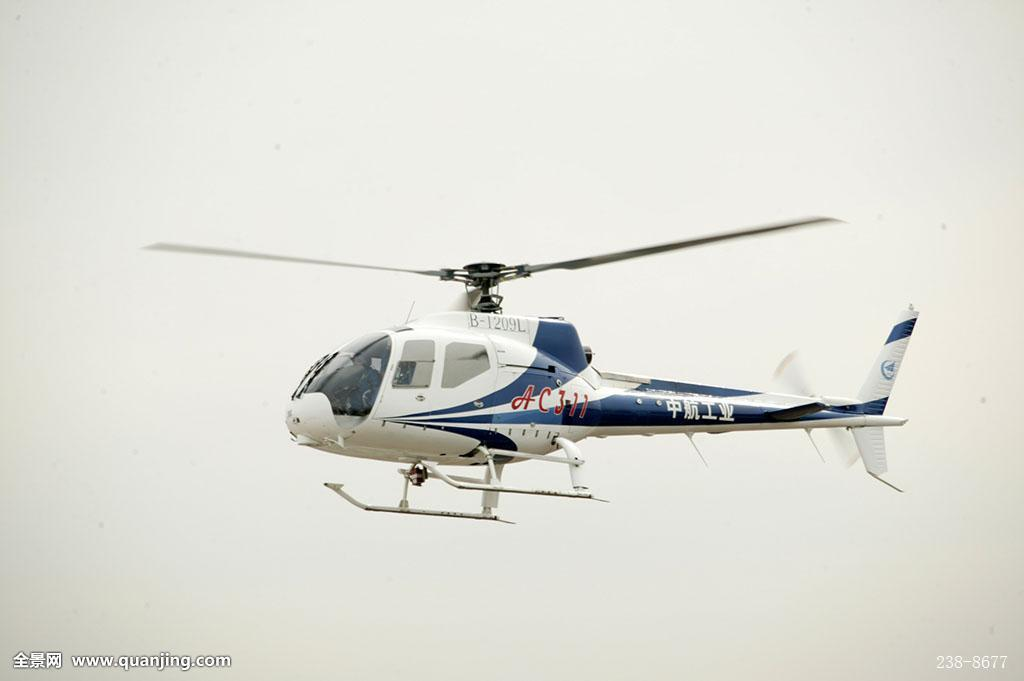airplane: (194, 204, 924, 519)
